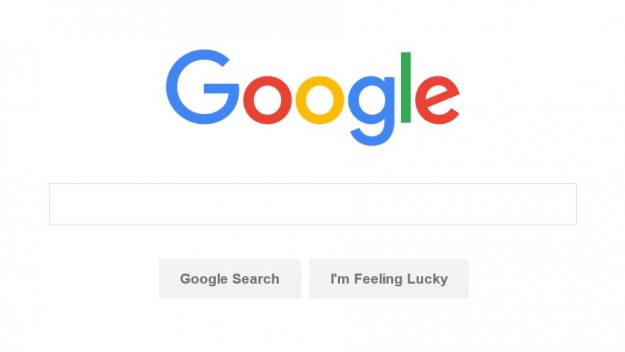google: (165, 48, 460, 148)
